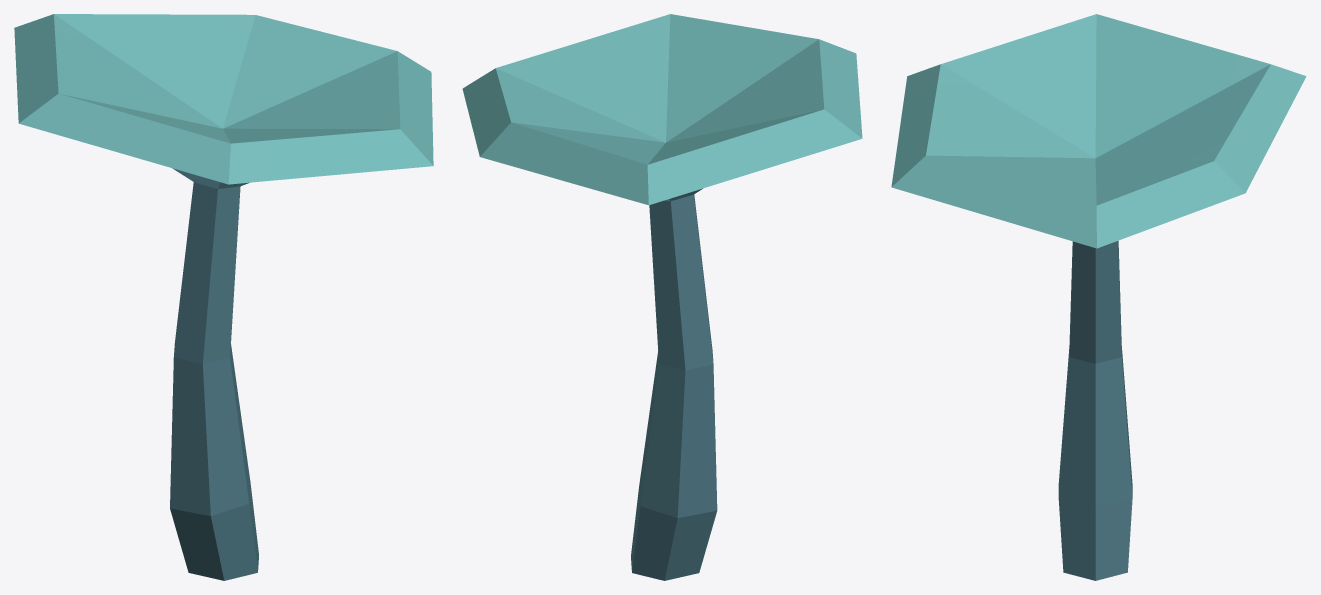
Rendered from Mushroom-E05.fbx.
3 views of the same model, side by side, from view 1: azimuth 30°, elevation 25°; view 2: azimuth 150°, elevation 25°; view 3: azimuth 270°, elevation 25° (orthographic). The views are drawn at different scales.
Visible parts, largest first — view 1: Mushroom-E05; view 2: Mushroom-E05; view 3: Mushroom-E05.
Part boxes in pixels (x1=…): Mushroom-E05: x1=14, y1=14, x2=433, y2=580; Mushroom-E05: x1=462, y1=14, x2=862, y2=580; Mushroom-E05: x1=891, y1=14, x2=1306, y2=580.
Bounding box in the file's own units: 44.97 × 53.14 × 42.02.
